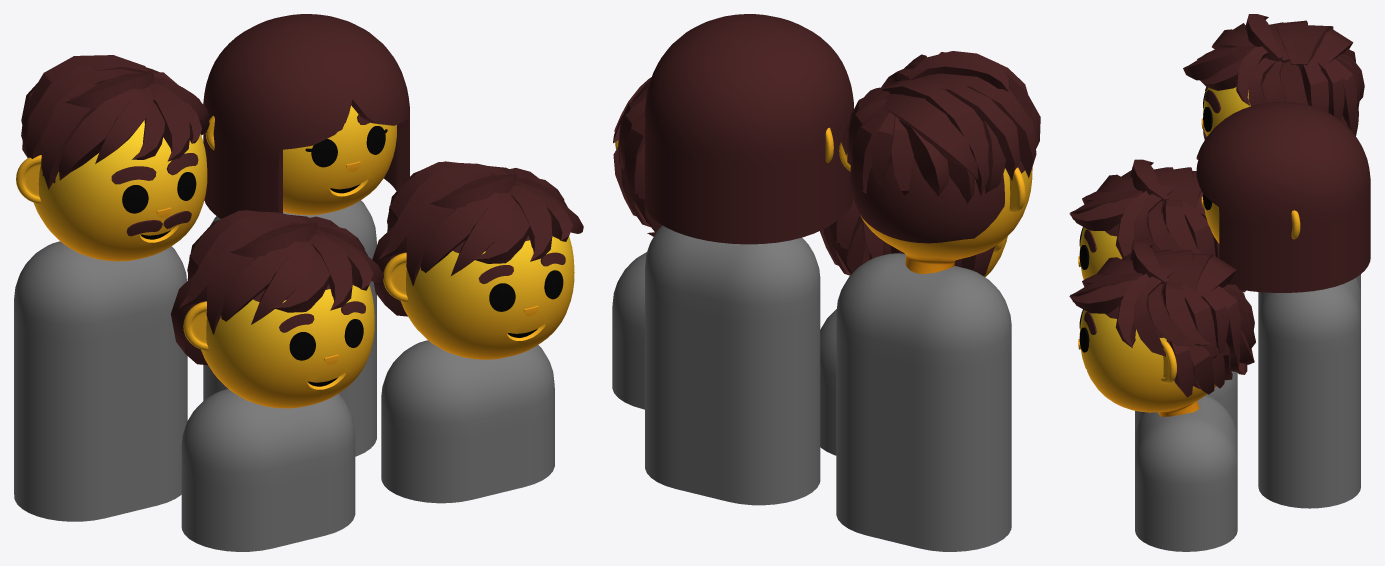
The model's file is family_man_woman_boy_boy.fbx.
The picture shows the model from 3 angles, left to right: view 1: azimuth 30°, elevation 25°; view 2: azimuth 150°, elevation 25°; view 3: azimuth 270°, elevation 25°; orthographic projection. The views are drawn at different scales.
Parts seen in each view (by area): view 1: Sphere.287, Roundcube.347, Sphere.286, Sphere.289, Cube.4385, Cube.4440, Cube.4417, Roundcube.348, Roundcube.344, Roundcube.345, Roundcube.346, Sphere.288 (+10 smaller); view 2: Sphere.287, Sphere.288, Roundcube.347, Cube.4417, Roundcube.345, Sphere.289, Cube.4440, Cube.4385, Sphere.286, Cylinder.052; view 3: Roundcube.347, Sphere.288, Cube.4440, Sphere.289, Cube.4417, Cube.4385, Roundcube.348, Roundcube.344, Roundcube.345, Sphere.286, Cylinder.054, Roundcube.346.
Boxes of the visible parts, x1,y1,x2,y2 form: Sphere.287: [14, 241, 187, 521]; Roundcube.347: [203, 14, 409, 218]; Sphere.286: [181, 389, 355, 551]; Sphere.289: [381, 340, 554, 503]; Cube.4385: [171, 210, 383, 365]; Cube.4440: [372, 161, 583, 316]; Cube.4417: [21, 55, 209, 189]; Roundcube.348: [400, 235, 574, 359]; Roundcube.344: [201, 284, 374, 408]; Roundcube.345: [34, 120, 207, 261]; Roundcube.346: [283, 105, 396, 215]; Sphere.288: [203, 200, 376, 456]; Sphere.287: [836, 253, 1011, 551]; Sphere.288: [645, 225, 820, 505]; Roundcube.347: [645, 14, 853, 244]; Cube.4417: [841, 51, 1040, 203]; Roundcube.345: [850, 157, 1032, 273]; Sphere.289: [612, 252, 646, 409]; Cube.4440: [613, 77, 662, 236]; Cube.4385: [820, 198, 995, 275]; Sphere.286: [820, 309, 836, 455]; Cylinder.052: [839, 141, 1025, 212]; Roundcube.347: [1196, 101, 1370, 292]; Sphere.288: [1258, 277, 1360, 508]; Cube.4440: [1069, 242, 1255, 397]; Sphere.289: [1135, 395, 1237, 551]; Cube.4417: [1183, 14, 1364, 129]; Cube.4385: [1069, 159, 1245, 292]; Roundcube.348: [1079, 294, 1215, 416]; Roundcube.344: [1079, 211, 1163, 279]; Roundcube.345: [1203, 58, 1358, 136]; Sphere.286: [1135, 371, 1237, 439]; Cylinder.054: [1161, 341, 1176, 383]; Roundcube.346: [1204, 202, 1219, 243].
Bounding box in the file's own units: 251 × 220 × 162.
Materials: 1 (1 with a texture image).
